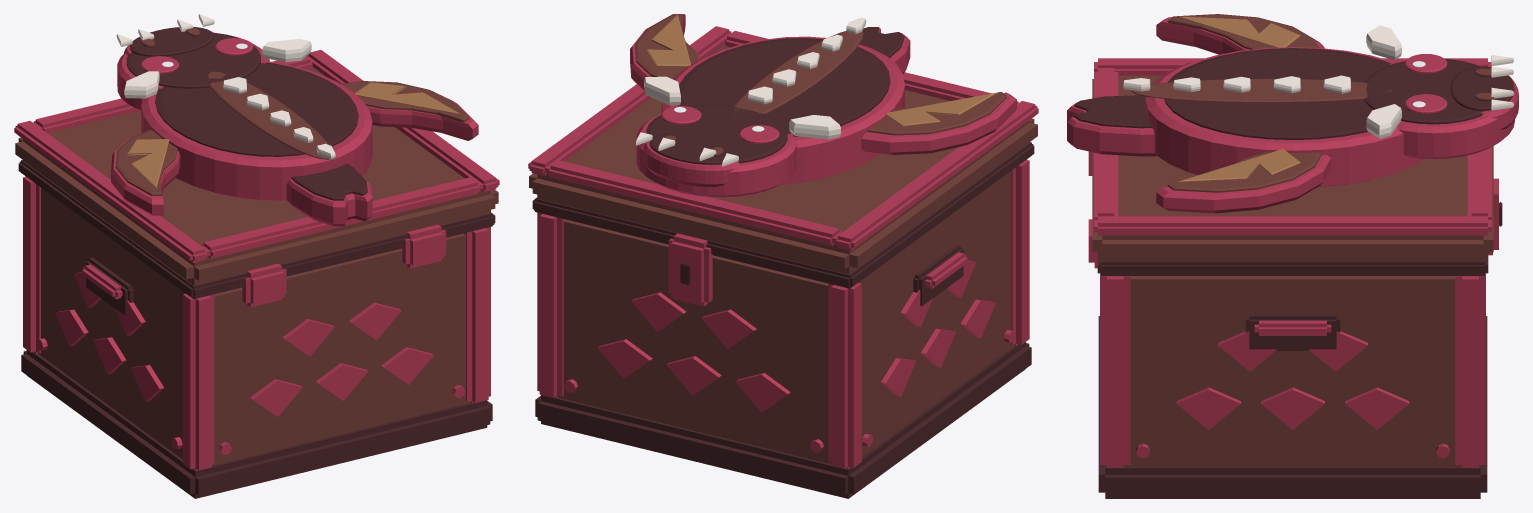
The model's file is crate_dragao_lava.fbx.
3 renders of one model, left to right at view 1: azimuth 30°, elevation 25°; view 2: azimuth 150°, elevation 25°; view 3: azimuth 270°, elevation 25°, orthographic. The views are drawn at different scales.
Visible parts, largest first — view 1: crate_dragao_lava_caixa; view 2: crate_dragao_lava_caixa; view 3: crate_dragao_lava_caixa.
Boxes of the visible parts, bbox=[...] form: crate_dragao_lava_caixa: bbox=[14, 14, 499, 498]; crate_dragao_lava_caixa: bbox=[528, 14, 1038, 498]; crate_dragao_lava_caixa: bbox=[1067, 14, 1518, 498].
Size of the model in its own units: 2.82 by 2.48 by 2.95.
Materials: 1 (1 with a texture image).
